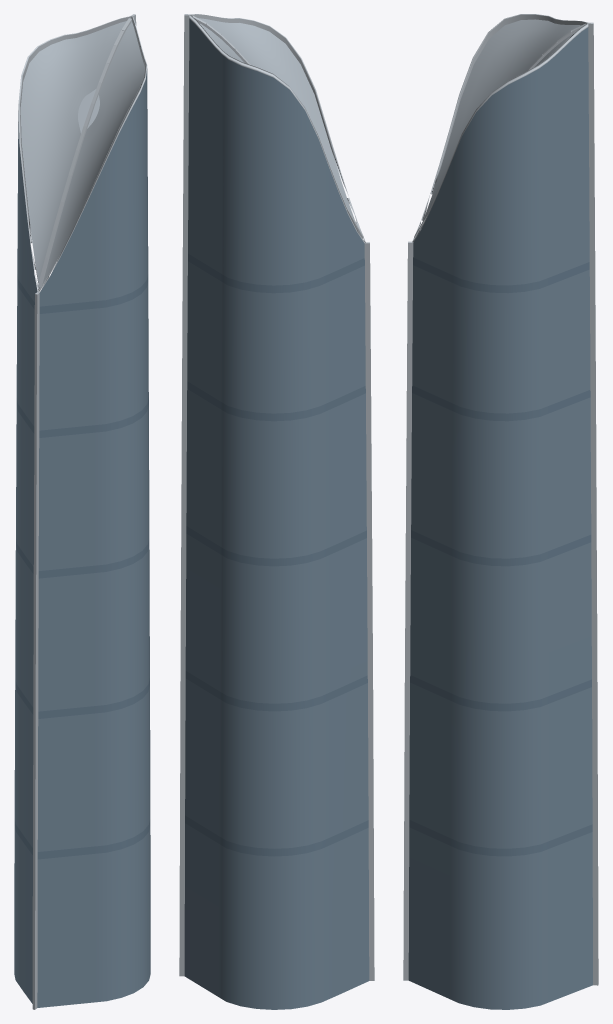
Rendered from suzhou-ifs.glb.
3 views of the same model, side by side, from view 1: azimuth 30°, elevation 25°; view 2: azimuth 150°, elevation 25°; view 3: azimuth 330°, elevation 25° (orthographic). The views are drawn at different scales.
Parts seen in each view (by area): view 1: Suzhou IFS; view 2: Suzhou IFS; view 3: Suzhou IFS.
Boxes of the visible parts, left/top/right/bottom form: Suzhou IFS: left=14, top=14, right=150, bottom=1009; Suzhou IFS: left=179, top=14, right=374, bottom=1009; Suzhou IFS: left=403, top=14, right=598, bottom=1009.
Size of the model in its own units: 74.87 by 451 by 59.7.
